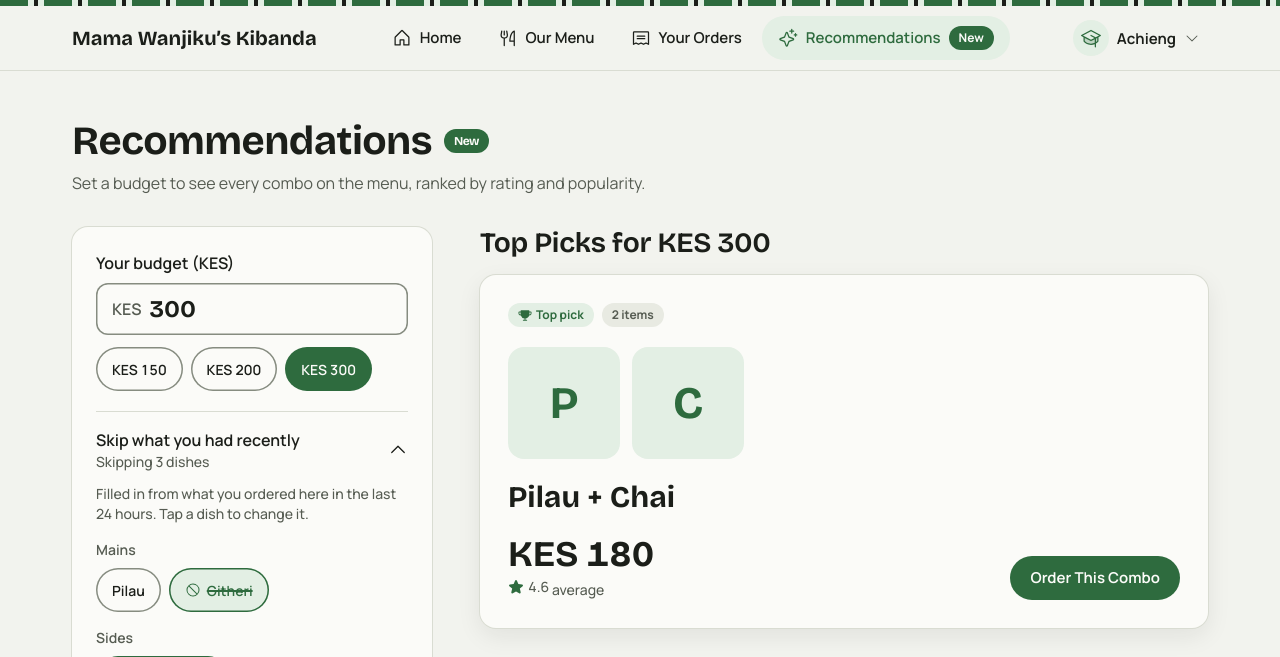
Test: Recommendations › does not crash on a negative budget, and does not ask the API
Replace the text in the field labelled "Your budget (KES)" with "-5" at (271, 309), box [149,293,392,325]
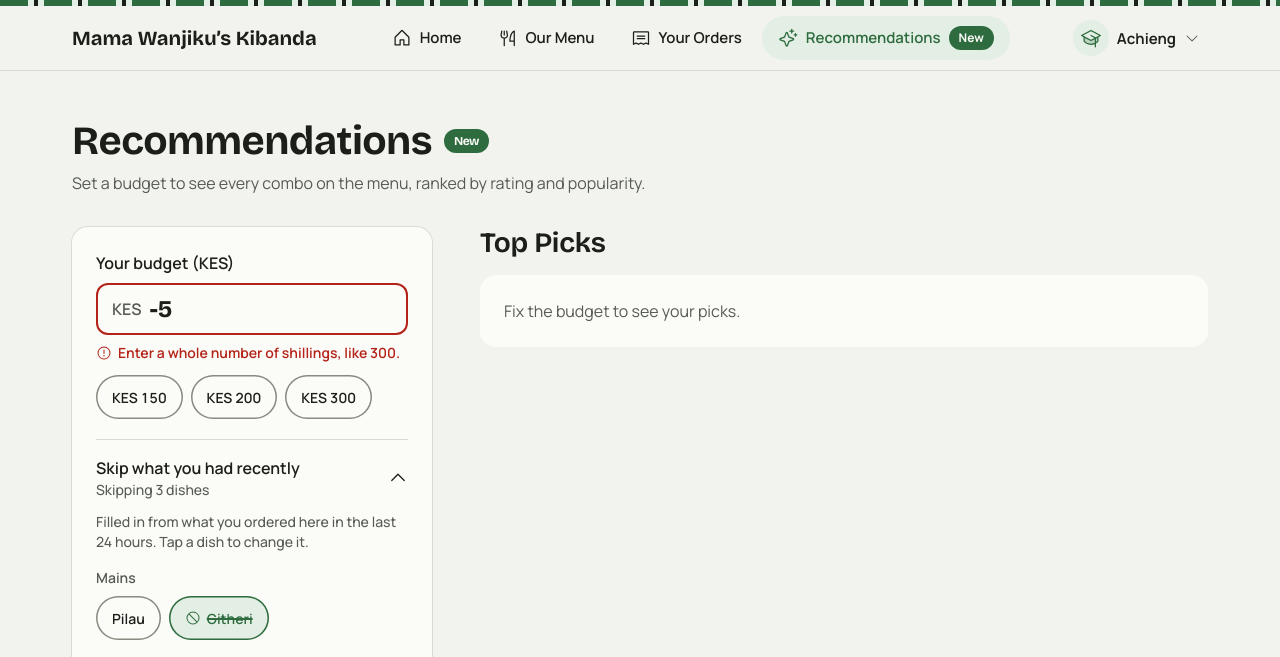
Result: the text "Enter a whole number of shillings, like 300." is shown at [96,343,408,363]
Result: the text "Fix the budget to see your picks." is shown at [480,275,1208,347]
